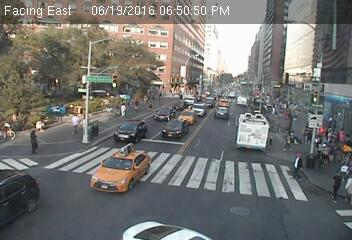neg: (47, 82, 65, 106), (30, 72, 48, 95), (152, 110, 168, 131), (230, 134, 245, 155), (253, 132, 268, 151), (108, 68, 120, 84), (87, 63, 98, 78), (258, 61, 268, 74)
pos: (325, 168, 351, 205), (286, 151, 311, 186), (23, 127, 46, 158), (65, 110, 84, 135), (282, 130, 298, 151), (115, 100, 130, 121), (130, 99, 143, 117)
